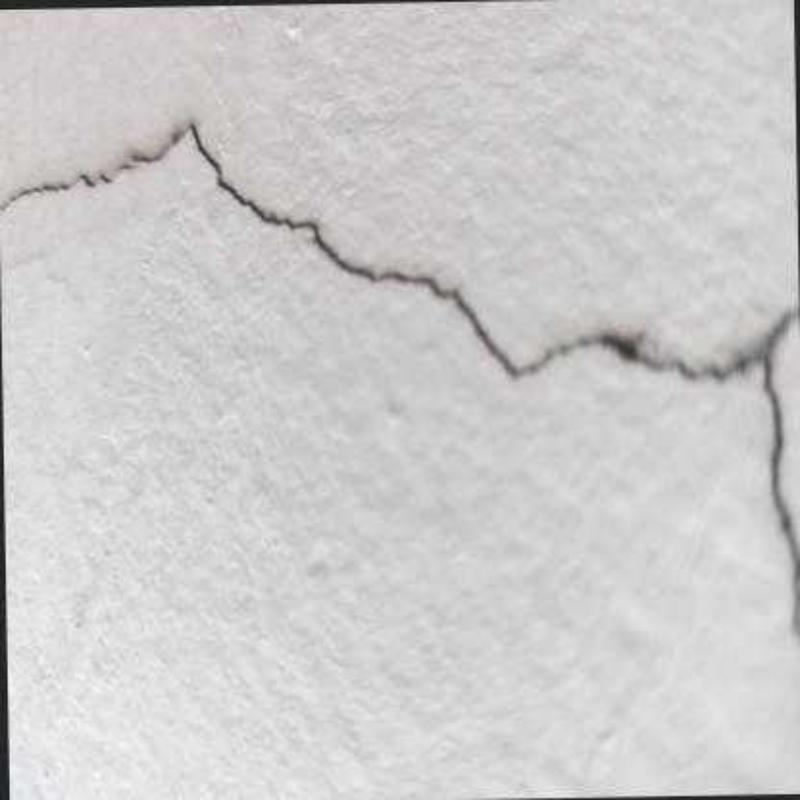pothole: (126, 119, 800, 652), (0, 157, 137, 213)
